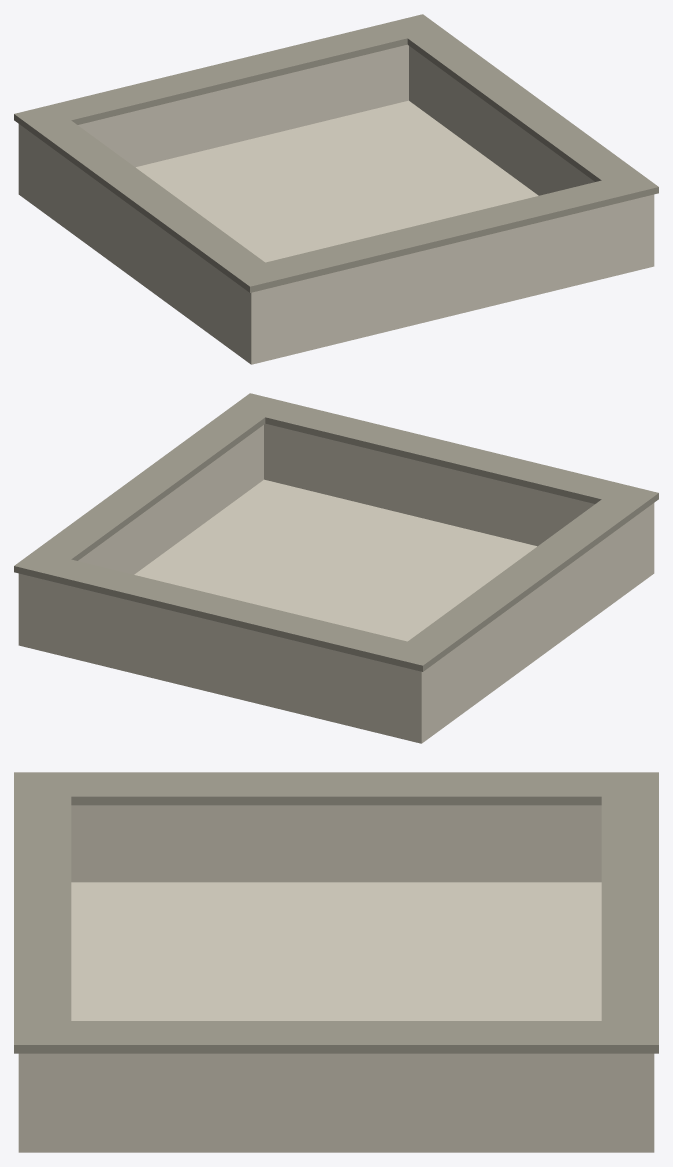
Rendered from arch.roof-flat.glb.
3 views of the same model, one above another, from view 1: azimuth 30°, elevation 25°; view 2: azimuth 150°, elevation 25°; view 3: azimuth 270°, elevation 25° (orthographic). The views are drawn at different scales.
Parts seen in each view (by area): view 1: arch.roof-flat; view 2: arch.roof-flat; view 3: arch.roof-flat.
Boxes of the visible parts, x1,y1,x2,y2 form: arch.roof-flat: (14,14,658,364); arch.roof-flat: (14,393,658,743); arch.roof-flat: (14,772,658,1152).
Size of the model in its own units: 4.06 by 0.76 by 4.06.
